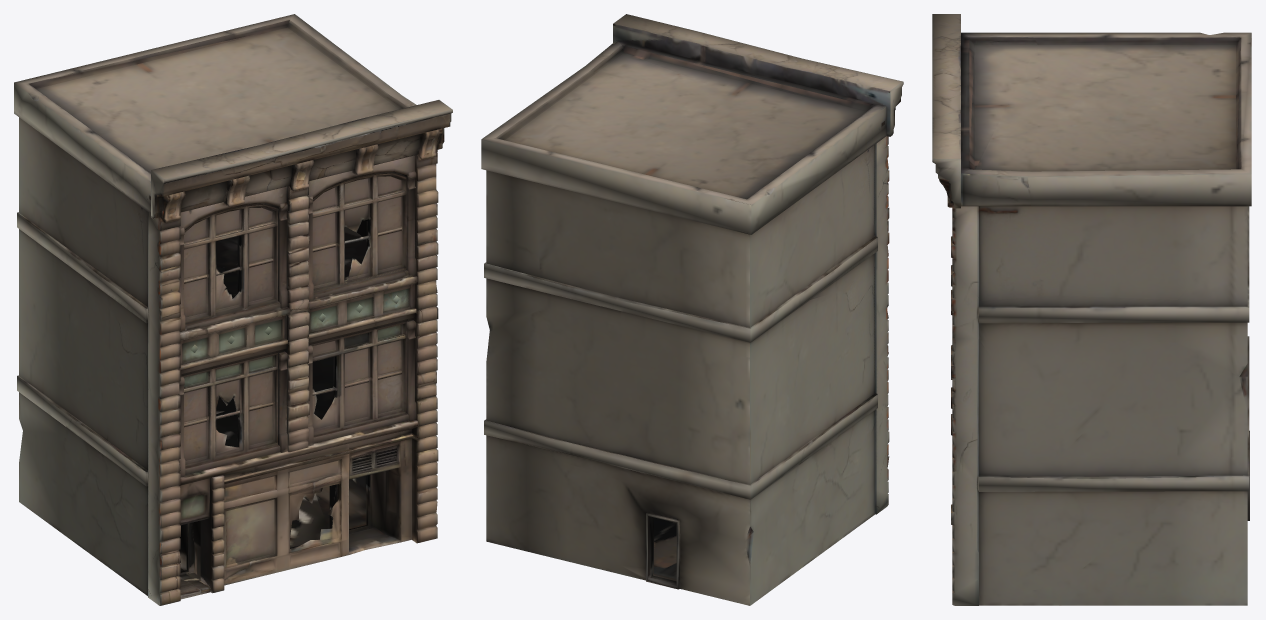
File: house_6.fbx
The picture shows the model from 3 angles, left to right: view 1: azimuth 30°, elevation 25°; view 2: azimuth 150°, elevation 25°; view 3: azimuth 270°, elevation 25°; orthographic projection. The views are drawn at different scales.
Parts seen in each view (by area): view 1: input; view 2: input; view 3: input.
Part boxes in pixels (x1,y1,x2,y2): input: (14, 14, 452, 605); input: (481, 14, 903, 605); input: (932, 14, 1251, 605).
Bounding box in the file's own units: 139 × 200 × 129.
Materials: 1 (1 with a texture image).
